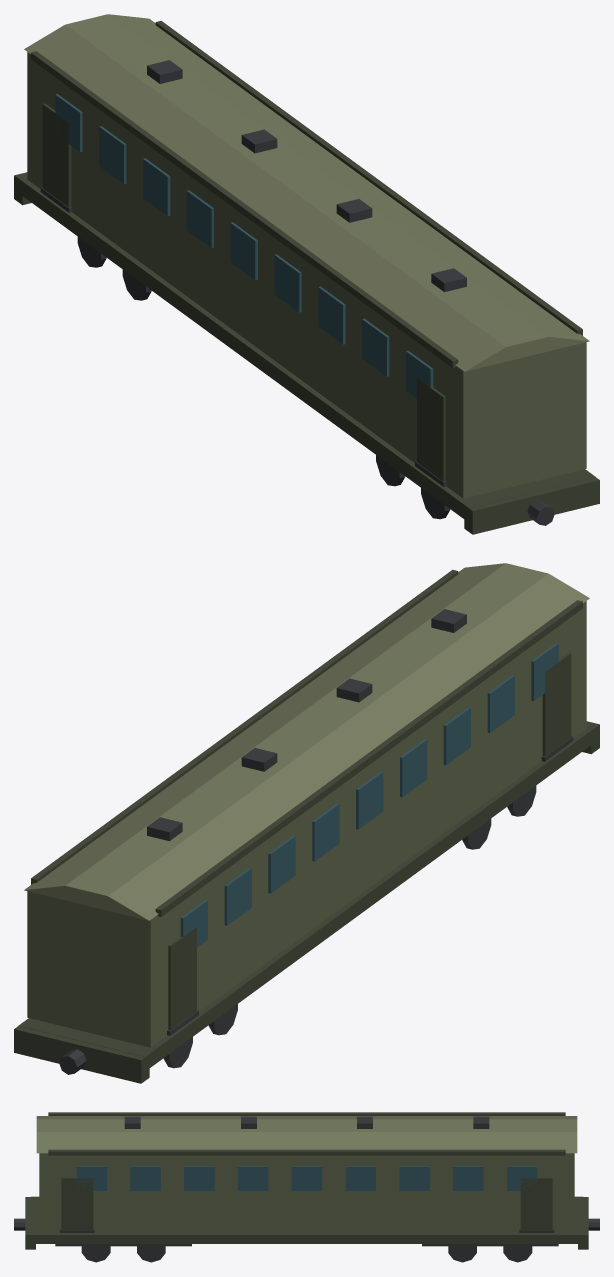
Rendered from Unit_MilitaryTrainCoach.obj.
3 views of the same model, one above another, from view 1: azimuth 30°, elevation 25°; view 2: azimuth 150°, elevation 25°; view 3: azimuth 270°, elevation 25° (orthographic). The views are drawn at different scales.
Bounding box in the file's own units: 3.18 × 4.88 × 20.15.
